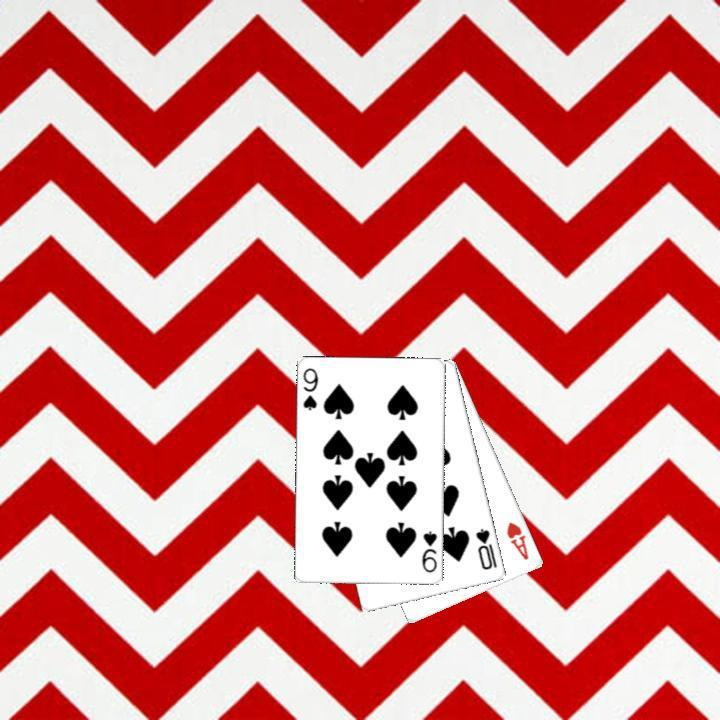10: (472, 524, 499, 572)
9: (418, 527, 439, 575), (299, 364, 320, 412)
A: (502, 517, 531, 562)
